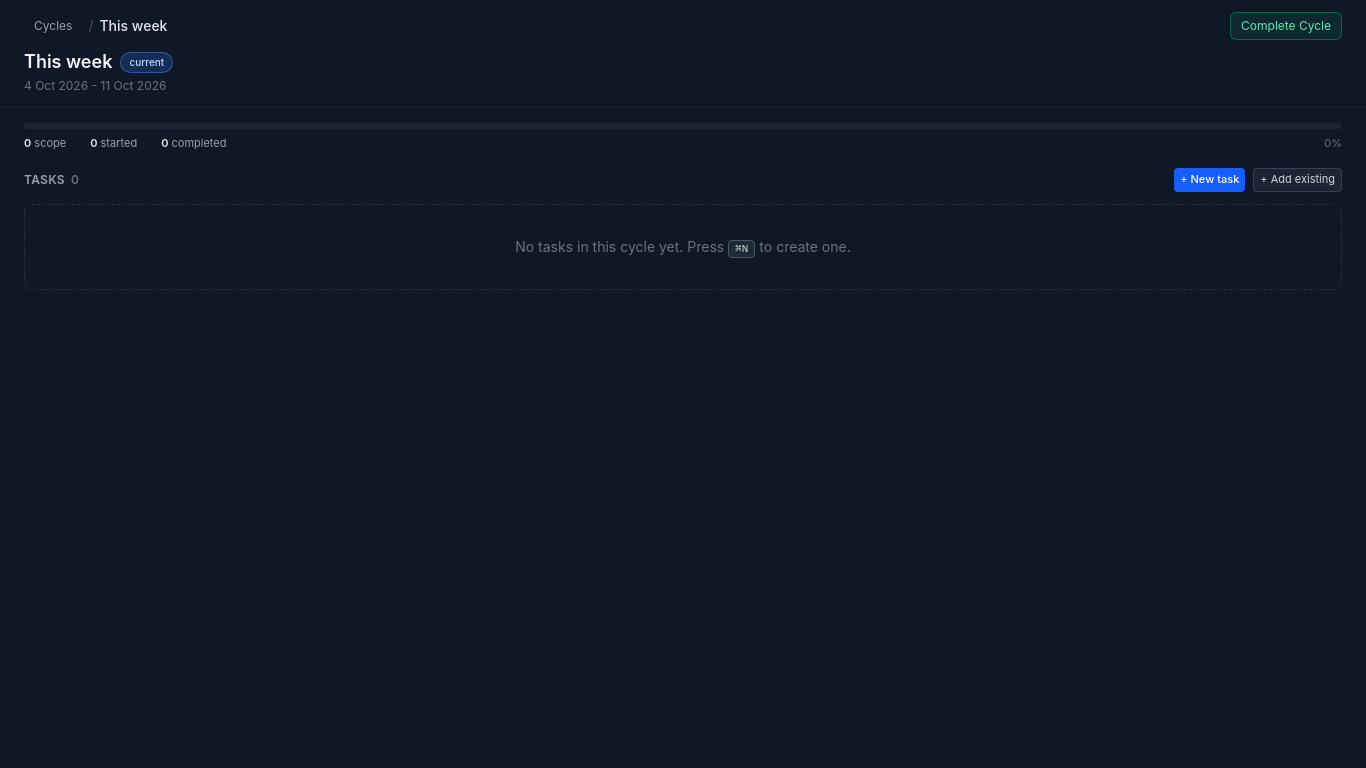
CycleDetail › adds an older task from beyond the first API page
The image size is (1366, 768).
Click the button "+ Add existing": (1298, 180) x1=1253 y1=168 x2=1342 y2=192
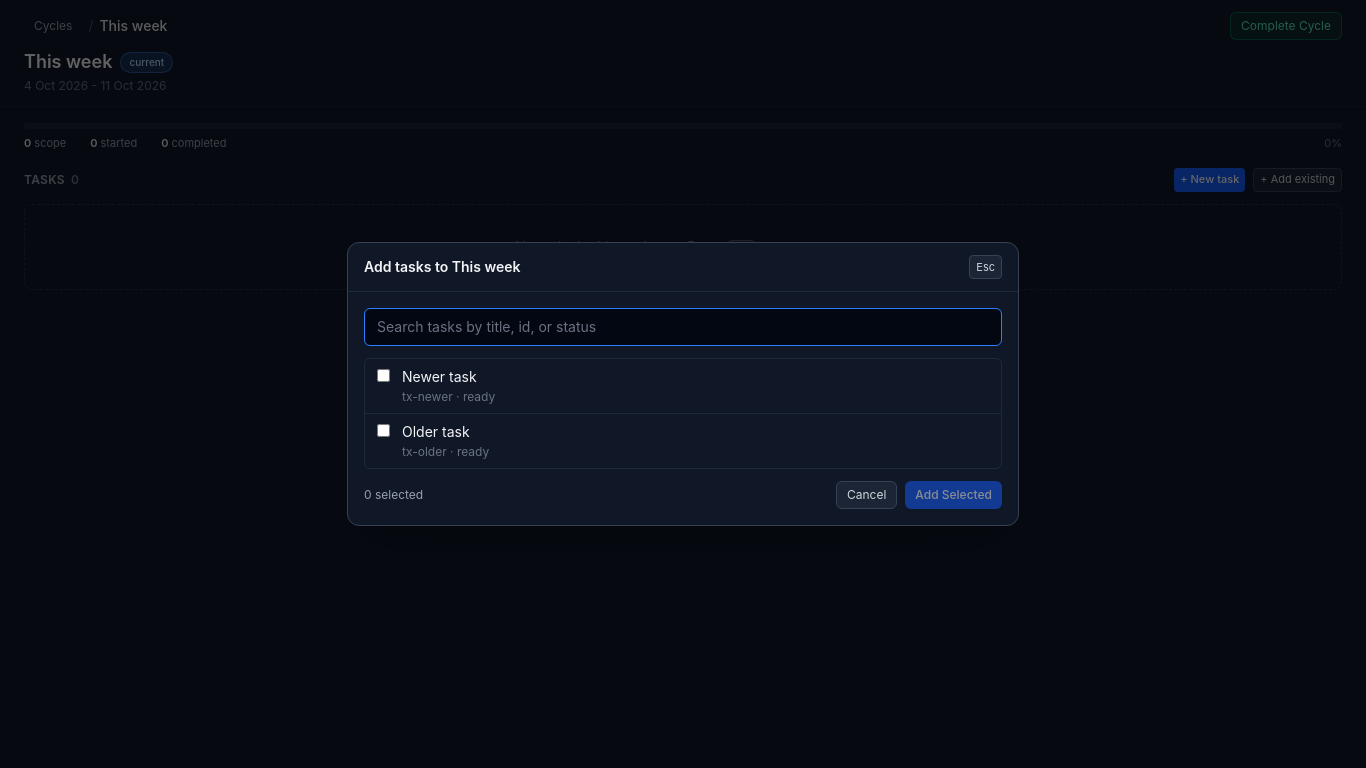
Click the checkbox labelled "Older task tx-older · ready": (384, 430) x1=377 y1=424 x2=390 y2=437
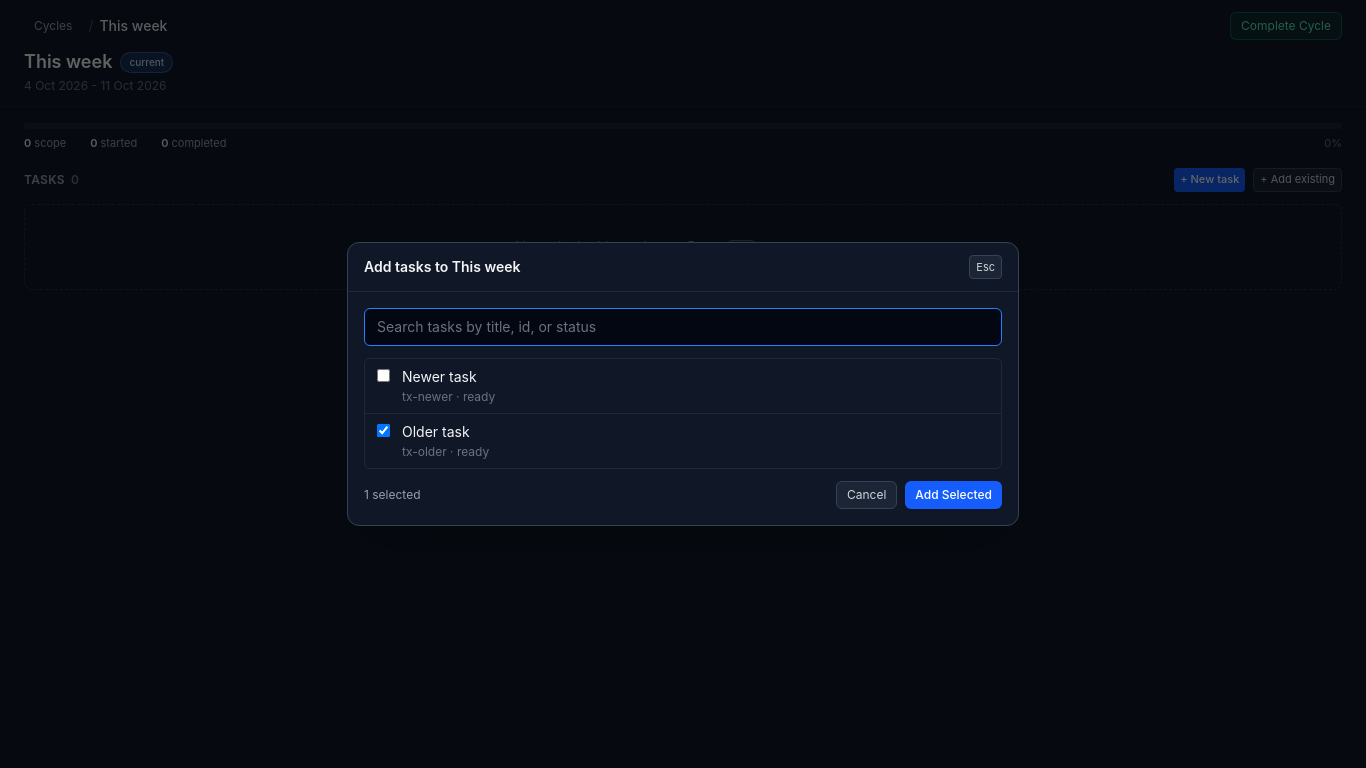
Click the button "Add Selected": (954, 495) x1=905 y1=481 x2=1002 y2=509
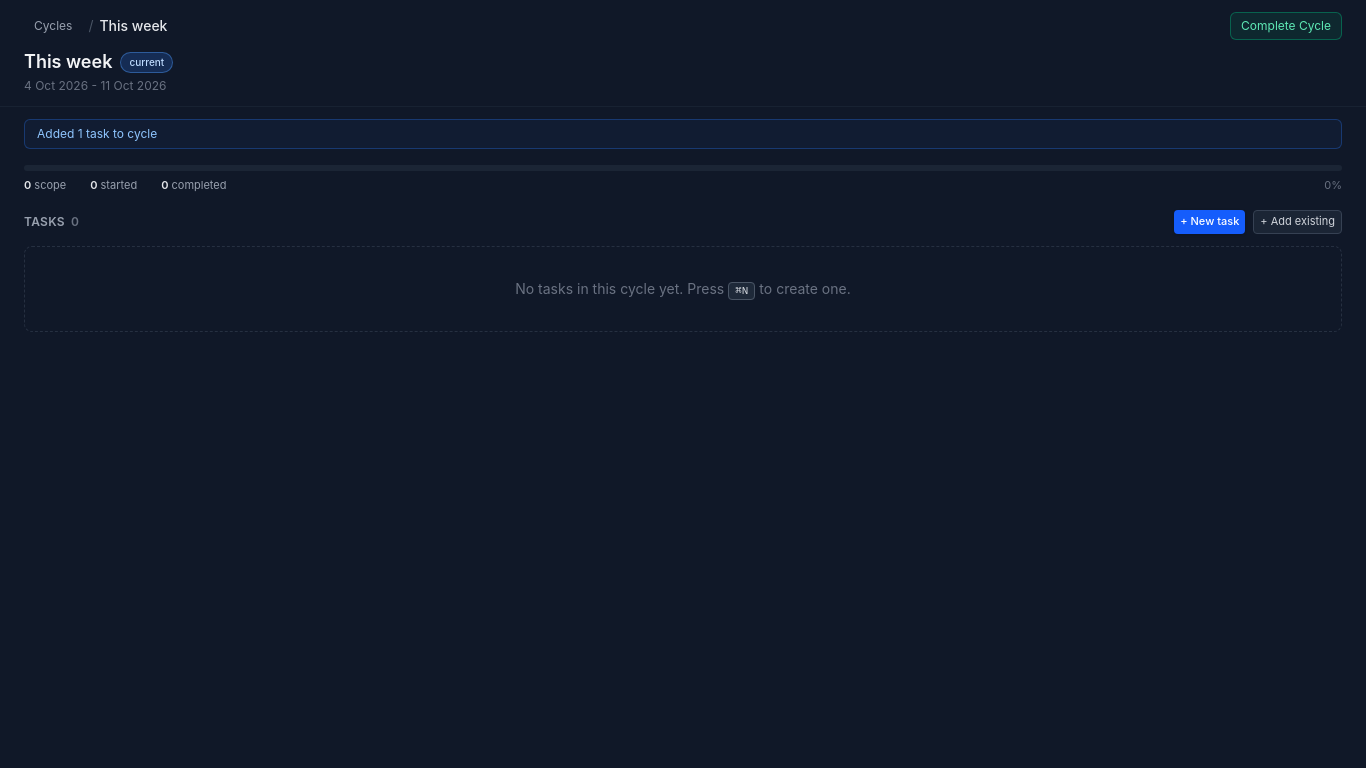
Result: the button "Add Selected" is gone
